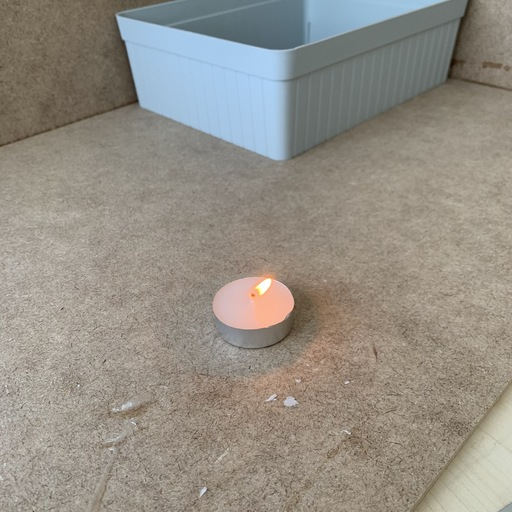fire: (250, 273, 278, 299)
